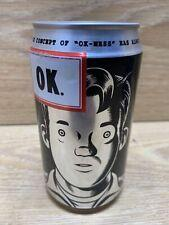metal: (32, 21, 143, 212)
